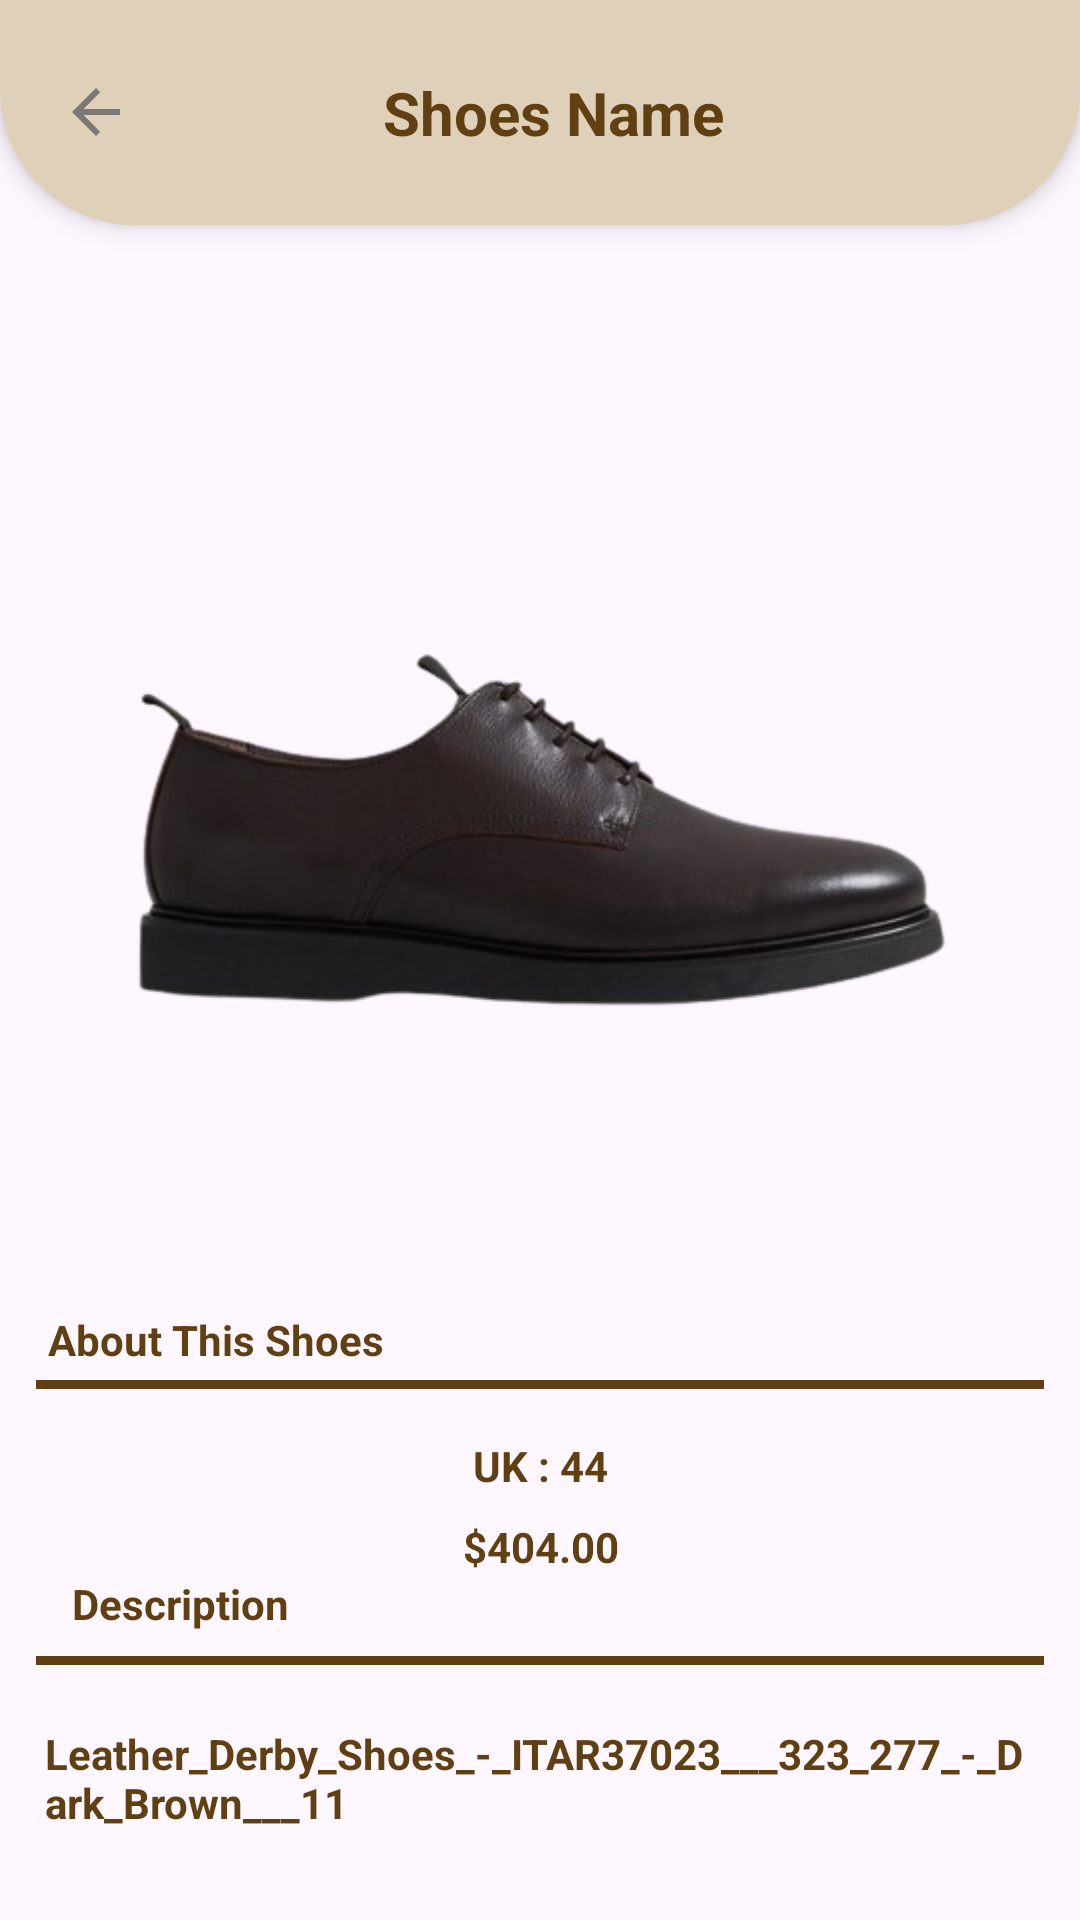

Where to tap for icons on this 1080px x 1920px app screen, as [x,y]:
arrow back: [96,112]
